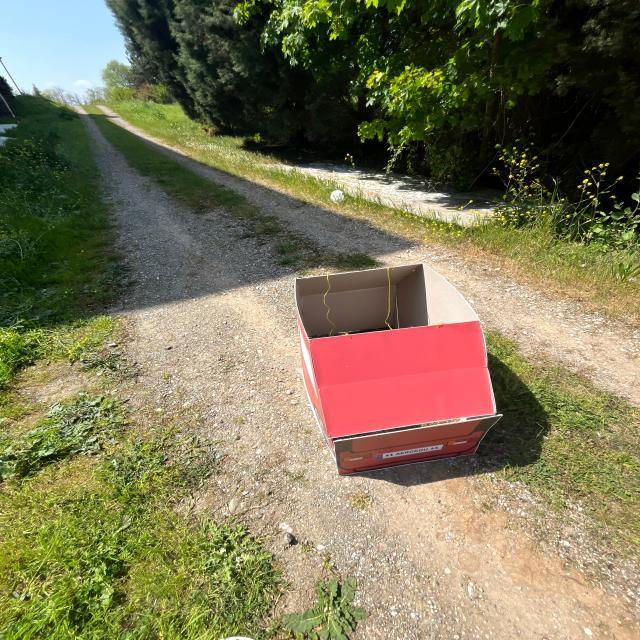red_car: (255, 249, 540, 489)
